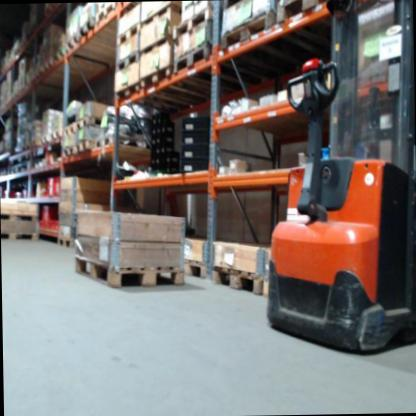pallet: (73, 249, 187, 291), (217, 10, 278, 59), (209, 262, 260, 301), (169, 7, 219, 41), (172, 41, 216, 74), (274, 0, 332, 25), (139, 3, 179, 31), (139, 62, 172, 91), (137, 32, 171, 59), (183, 255, 212, 283), (116, 20, 141, 49), (113, 81, 141, 104), (114, 47, 139, 72), (0, 211, 38, 225), (95, 3, 117, 27), (2, 230, 38, 243), (75, 138, 108, 151), (219, 0, 257, 11), (75, 116, 113, 126), (79, 19, 96, 40), (62, 143, 76, 160), (56, 235, 73, 249), (62, 120, 75, 138)
pallet_truck: (259, 0, 416, 361)
small_load_carrier: (178, 143, 212, 159), (179, 115, 212, 131), (179, 159, 211, 175), (178, 130, 213, 144)
